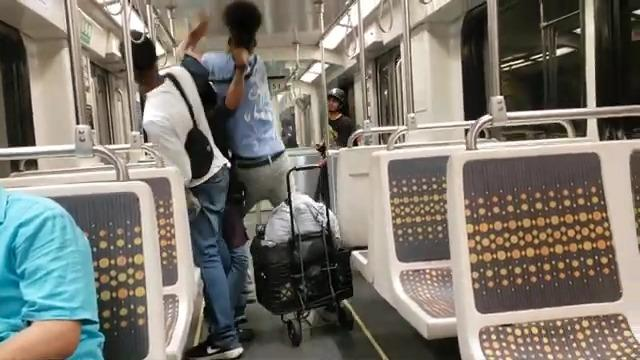non-violence: (118, 33, 251, 360), (0, 192, 103, 359), (326, 82, 356, 147)
violence: (171, 22, 295, 337)
